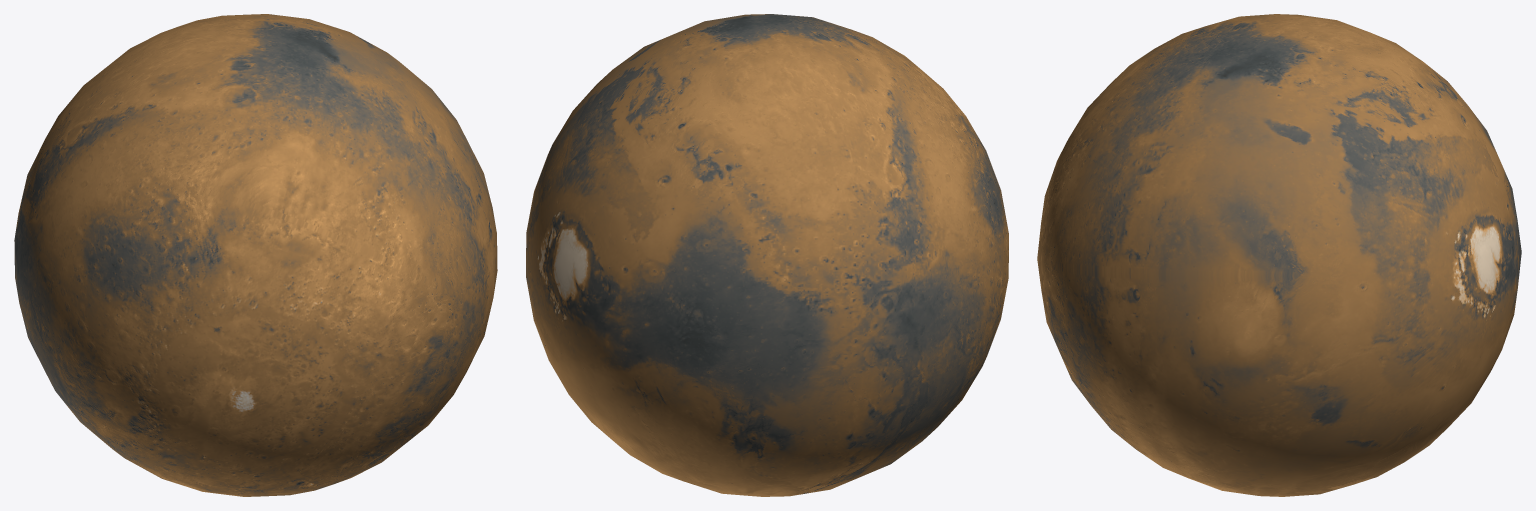
File: mars.obj
3 renders of one model, left to right at view 1: azimuth 30°, elevation 25°; view 2: azimuth 150°, elevation 25°; view 3: azimuth 270°, elevation 25°, orthographic.
Parts seen in each view (by area): view 1: Mercury; view 2: Mercury; view 3: Mercury.
Boxes of the visible parts, x1,y1,x2,y2 form: Mercury: (14, 14, 497, 496); Mercury: (526, 14, 1008, 496); Mercury: (1037, 14, 1521, 496).
Bounding box in the file's own units: 0.4749 × 0.4743 × 0.4759.
Materials: 1 (1 with a texture image).
